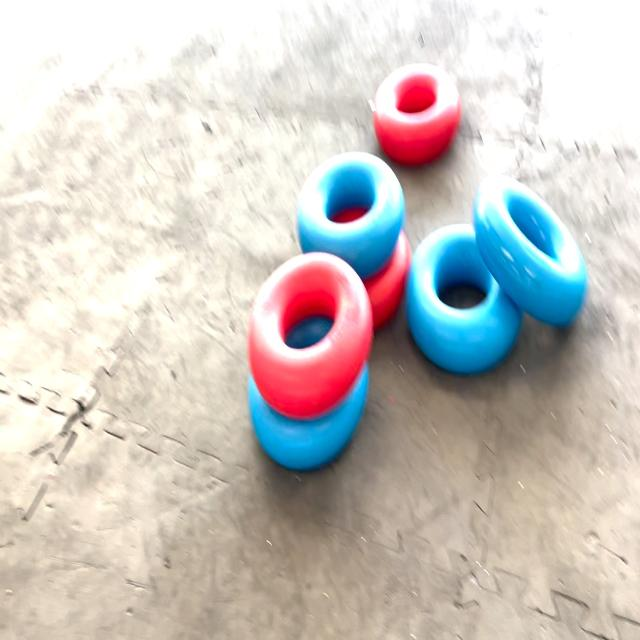Blue-Ring: (406, 224, 522, 373), (474, 176, 588, 327), (298, 151, 405, 278), (249, 364, 369, 470)
Red-Ring: (248, 253, 372, 419), (372, 64, 461, 164), (364, 231, 411, 331)
